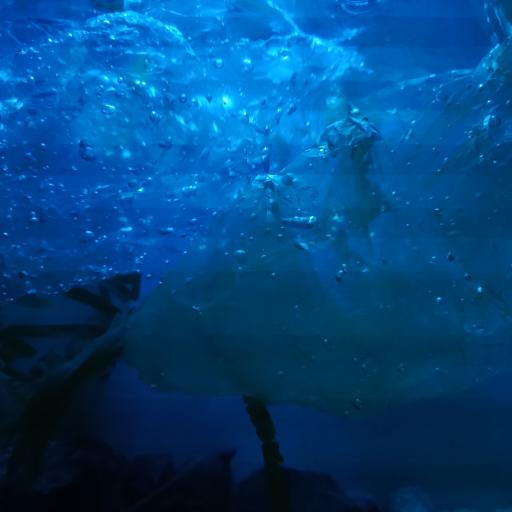plastic_bag: (121, 38, 512, 414), (0, 0, 341, 290)
